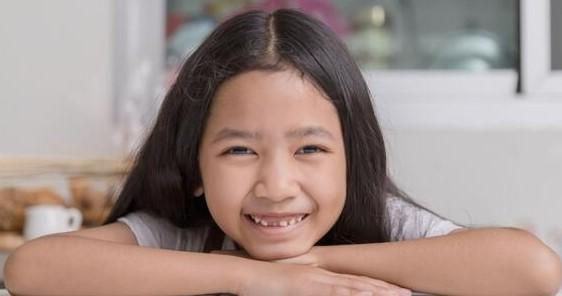Healthy: (171, 35, 375, 269)
